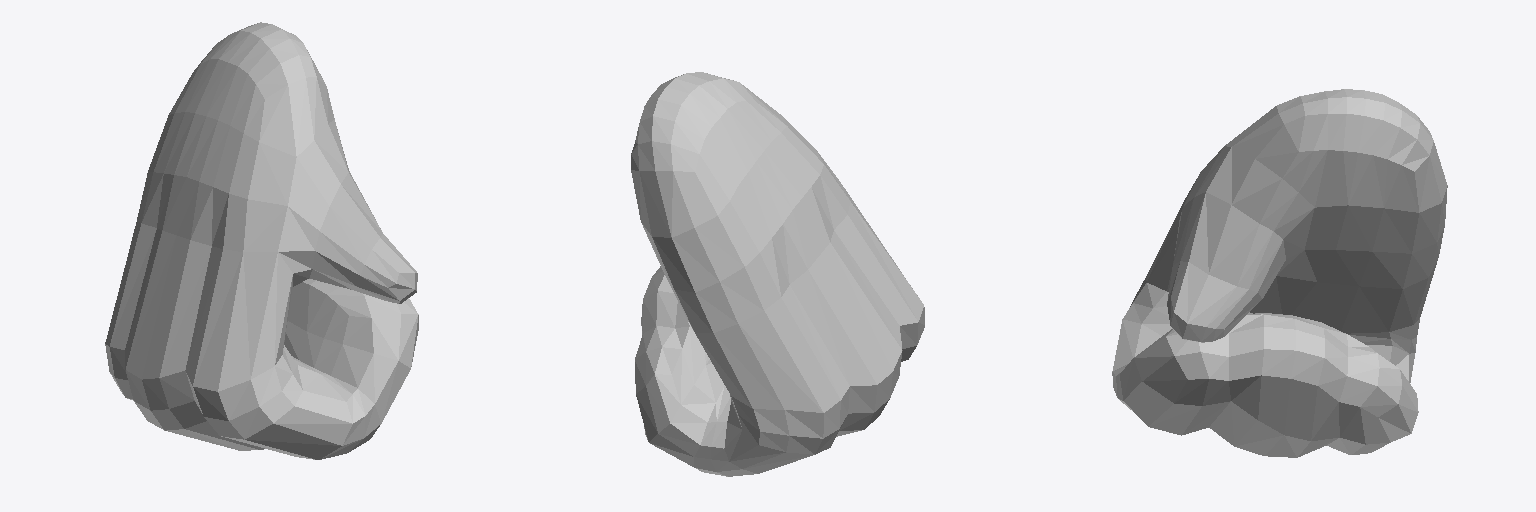
Rendered from Hand_Grip_R.obj.
The picture shows the model from 3 angles: view 1: azimuth 30°, elevation 25°; view 2: azimuth 150°, elevation 25°; view 3: azimuth 270°, elevation 25°; orthographic projection.
Parts seen in each view (by area): view 1: Hand_Grip_R; view 2: Hand_Grip_R; view 3: Hand_Grip_R.
Boxes of the visible parts, x1=… form: Hand_Grip_R: x1=105, y1=22, x2=418, y2=459; Hand_Grip_R: x1=631, y1=72, x2=924, y2=476; Hand_Grip_R: x1=1112, y1=89, x2=1447, y2=457.
Bounding box in the file's own units: 0.2303 × 0.3443 × 0.2787.